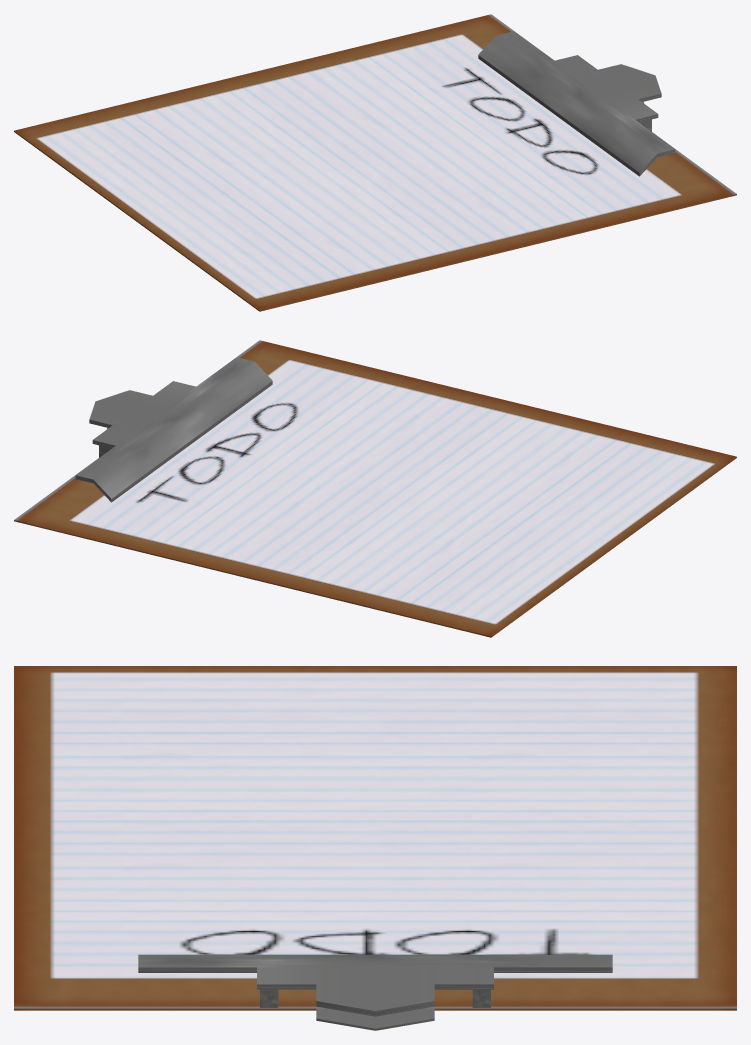
Rendered from Clipboard2.FBX.
3 views of the same model, one above another, from view 1: azimuth 30°, elevation 25°; view 2: azimuth 150°, elevation 25°; view 3: azimuth 270°, elevation 25° (orthographic). The views are drawn at different scales.
Parts seen in each view (by area): view 1: Box001, Box002; view 2: Box001, Box002; view 3: Box001, Box002, Box003.
Part boxes in pixels (x1,y1,x2,y2): Box001: [14, 14, 736, 311]; Box002: [478, 31, 675, 176]; Box001: [14, 340, 736, 637]; Box002: [75, 357, 272, 502]; Box001: [14, 666, 736, 1010]; Box002: [138, 954, 612, 1016]; Box003: [316, 1008, 434, 1030].
Bounding box in the file's own units: 1.11 × 0.0408 × 0.9111.
1 material, 1 textured.
